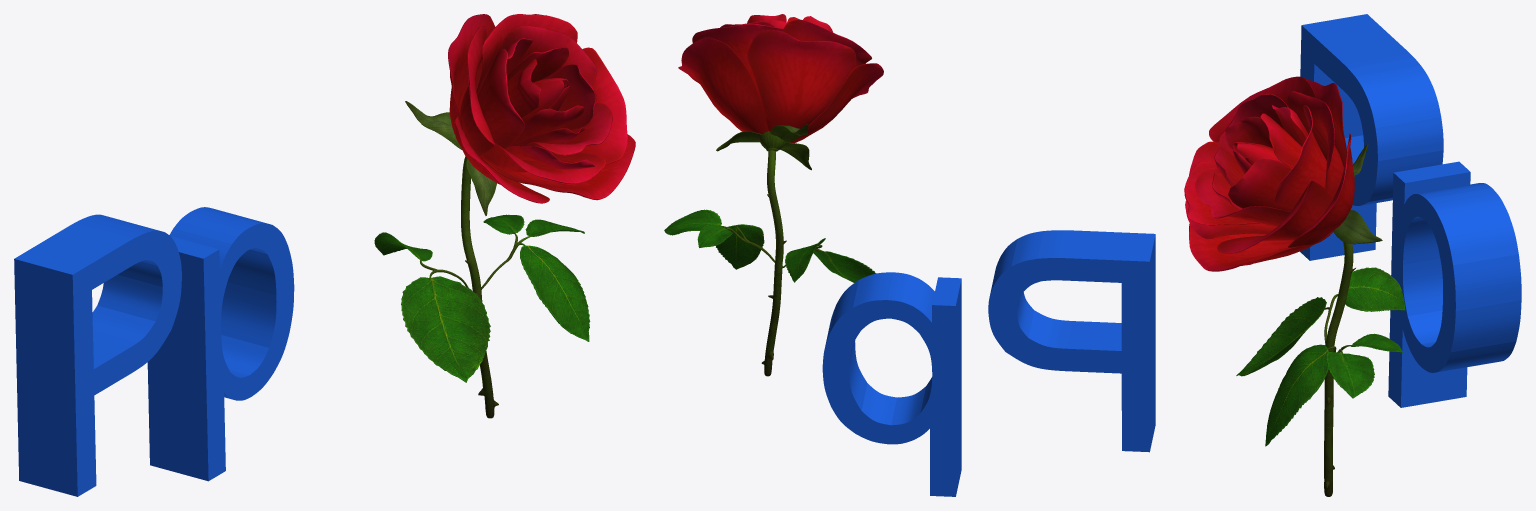
The picture shows the model from 3 angles, left to right: view 1: azimuth 30°, elevation 25°; view 2: azimuth 150°, elevation 25°; view 3: azimuth 270°, elevation 25°; orthographic projection. The views are drawn at different scales.
Visible parts, largest first — view 1: Mesh_0.022, root; view 2: Mesh_0.022, root; view 3: Mesh_0.022, root.
Part boxes in pixels (x1,y1,x2,y2): Mesh_0.022: (14,207,294,496); root: (374,14,635,418); Mesh_0.022: (822,230,1155,496); root: (664,14,883,376); Mesh_0.022: (1300,14,1521,407); root: (1184,76,1405,496).
Size of the model in its own units: 36.57 by 26.49 by 18.71.
Materials: 2 (1 with a texture image).
